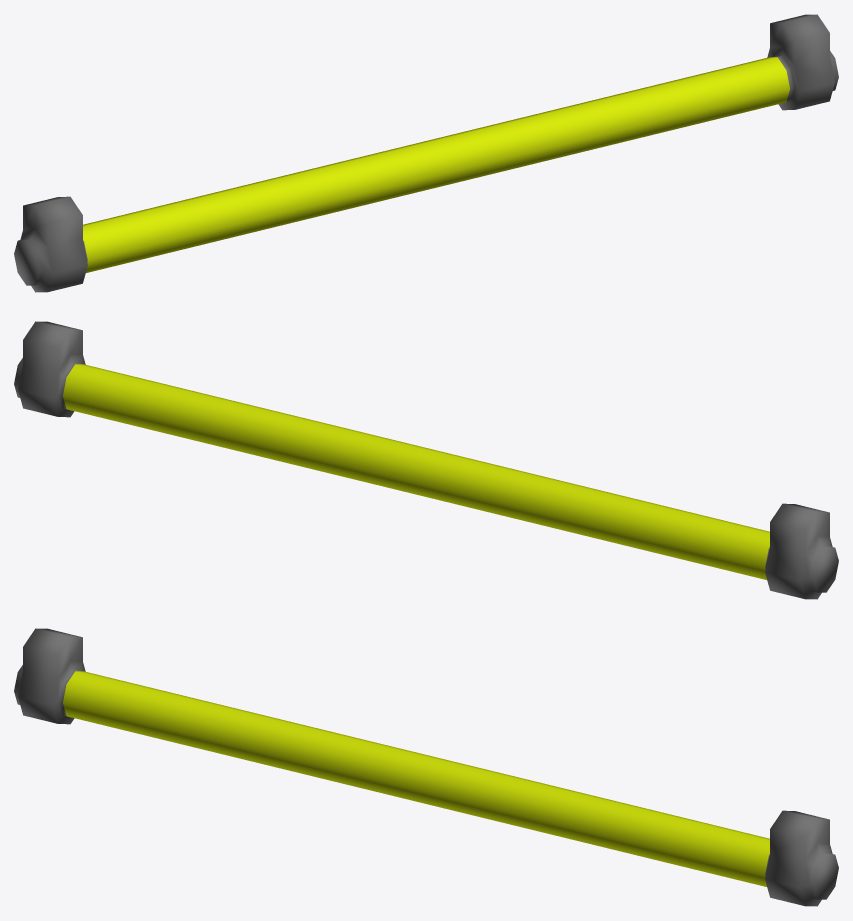
Rendered from NeonLightStick.fbx.
The picture shows the model from 3 angles, top to bottom: view 1: azimuth 30°, elevation 25°; view 2: azimuth 150°, elevation 25°; view 3: azimuth 330°, elevation 25°; orthographic projection.
Visible parts, largest first — view 1: Cylinder.012; view 2: Cylinder.012; view 3: Cylinder.012.
Boxes of the visible parts, x1,y1,x2,y2 form: Cylinder.012: (14,14,838,292); Cylinder.012: (14,321,838,599); Cylinder.012: (14,628,838,906).
Bounding box in the file's own units: 416 × 43.34 × 31.39.
